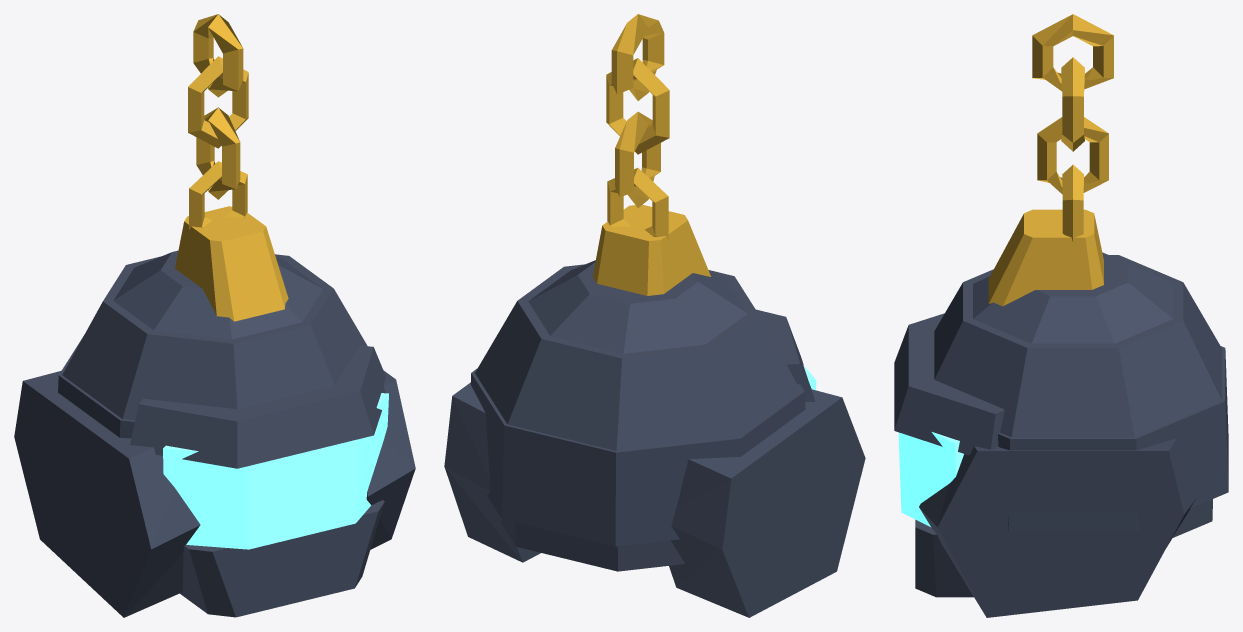
File: MiniHelmet.fbx
3 renders of one model, left to right at view 1: azimuth 30°, elevation 25°; view 2: azimuth 150°, elevation 25°; view 3: azimuth 270°, elevation 25°, orthographic. The views are drawn at different scales.
Visible parts, largest first — view 1: Body_Helm_Slate, Neon, Body_Helm_Gold, Chain; view 2: Body_Helm_Slate, Body_Helm_Gold, Chain; view 3: Body_Helm_Slate, Body_Helm_Gold, Chain, Neon.
Part boxes in pixels (x1,y1,x2,y2): Body_Helm_Slate: (14, 250, 415, 617); Neon: (163, 393, 388, 549); Body_Helm_Gold: (175, 161, 288, 321); Chain: (188, 14, 248, 199); Body_Helm_Slate: (444, 260, 865, 617); Body_Helm_Gold: (592, 168, 710, 295); Chain: (606, 14, 669, 207); Body_Helm_Slate: (894, 252, 1228, 617); Body_Helm_Gold: (988, 164, 1103, 306); Chain: (1032, 14, 1113, 194); Neon: (898, 432, 963, 526).
Bounding box in the file's own units: 0.1847 × 0.3439 × 0.1907.
